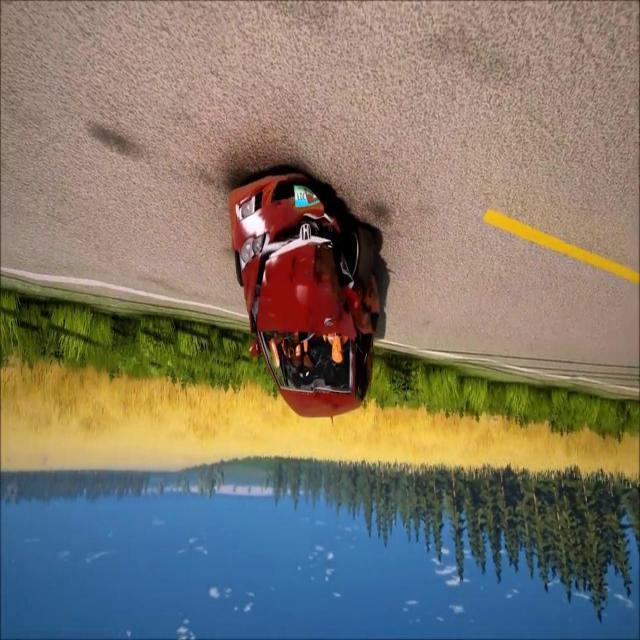severe: (225, 162, 385, 422)
